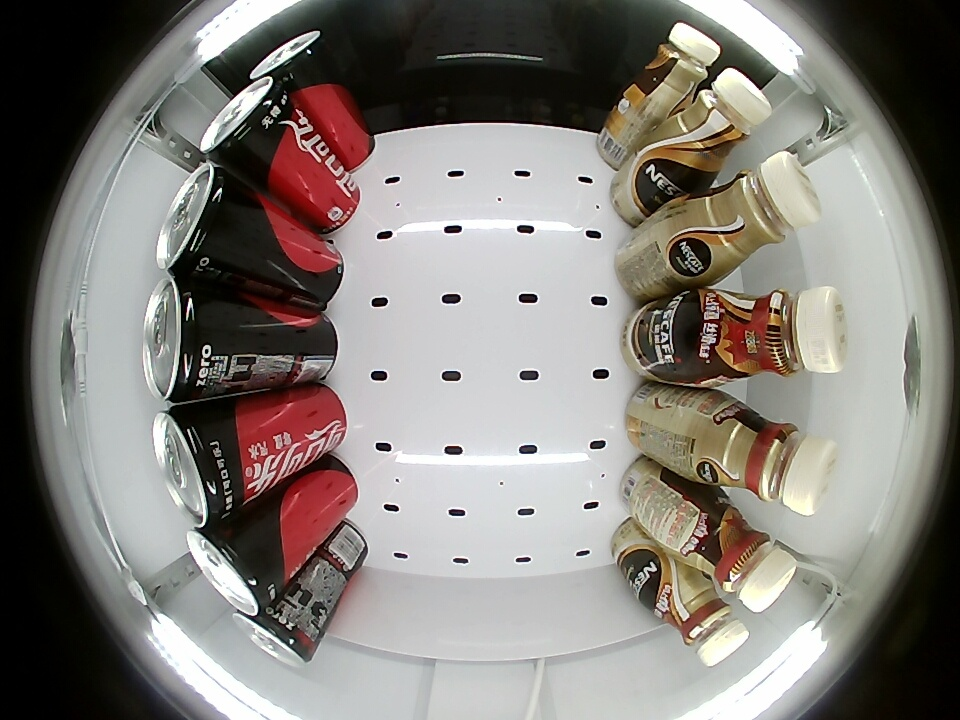kafei: (673, 151, 823, 282), (694, 397, 839, 516), (657, 68, 772, 184), (707, 287, 848, 380), (702, 500, 796, 613), (659, 579, 750, 666), (635, 22, 721, 106)
lingdukele: (154, 401, 249, 527), (143, 279, 232, 400), (156, 164, 243, 278), (186, 523, 284, 616), (200, 76, 291, 164), (250, 30, 333, 97), (233, 603, 317, 666)
